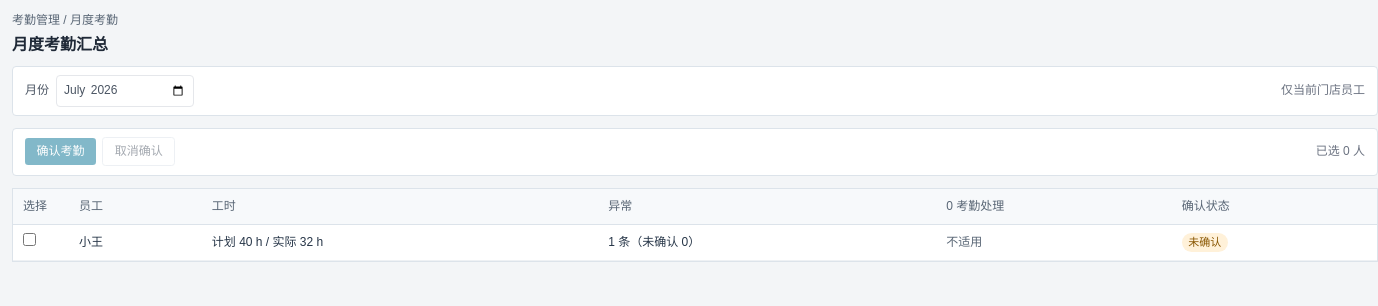
it: reloads status, revision, and hash after confirmation
This screenshot has width=1378, height=306.
Click the checkbox named "选择小王" at x=30, y=240, box top-left (23, 233), bottom-right (36, 246)
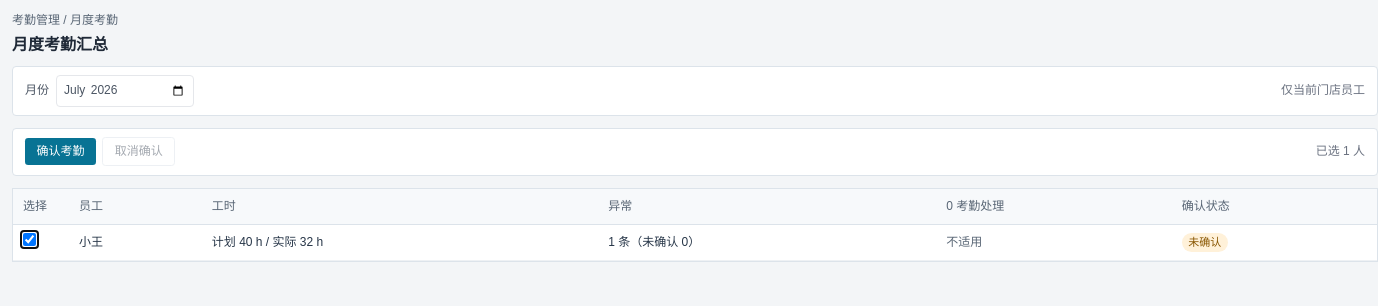
Click the button "确认考勤" at x=60, y=152, box top-left (25, 138), bottom-right (96, 165)
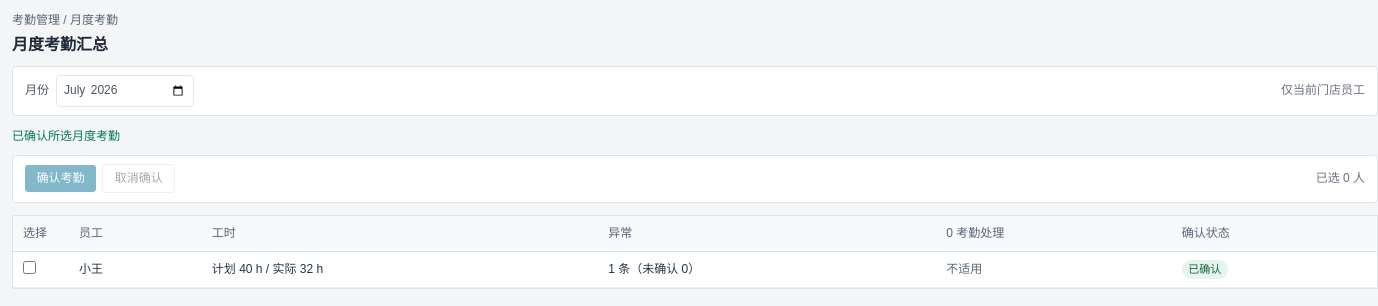
Check: the text "已确认" is shown, box top-left (1182, 260), bottom-right (1228, 279)
